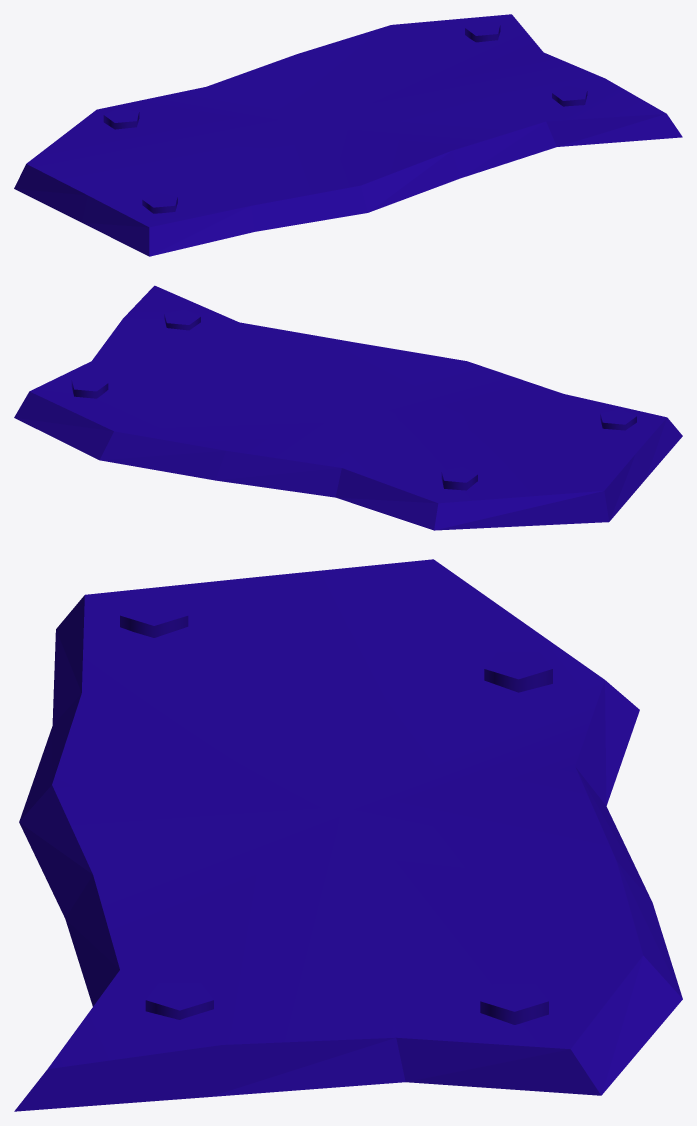
The model's file is CG_Model_TownInt_MetalPlate1_Mar24_ChrisMcknight.FBX.
The picture shows the model from 3 angles, top to bottom: view 1: azimuth 30°, elevation 25°; view 2: azimuth 150°, elevation 25°; view 3: azimuth 270°, elevation 25°; orthographic projection. The views are drawn at different scales.
Visible parts, largest first — view 1: Plane018; view 2: Plane018; view 3: Plane018.
Part boxes in pixels (x1,y1,x2,y2): Plane018: (14,14,682,256); Plane018: (14,285,682,530); Plane018: (14,559,682,1111).
Size of the model in its own units: 21.69 by 1.05 by 11.98.
